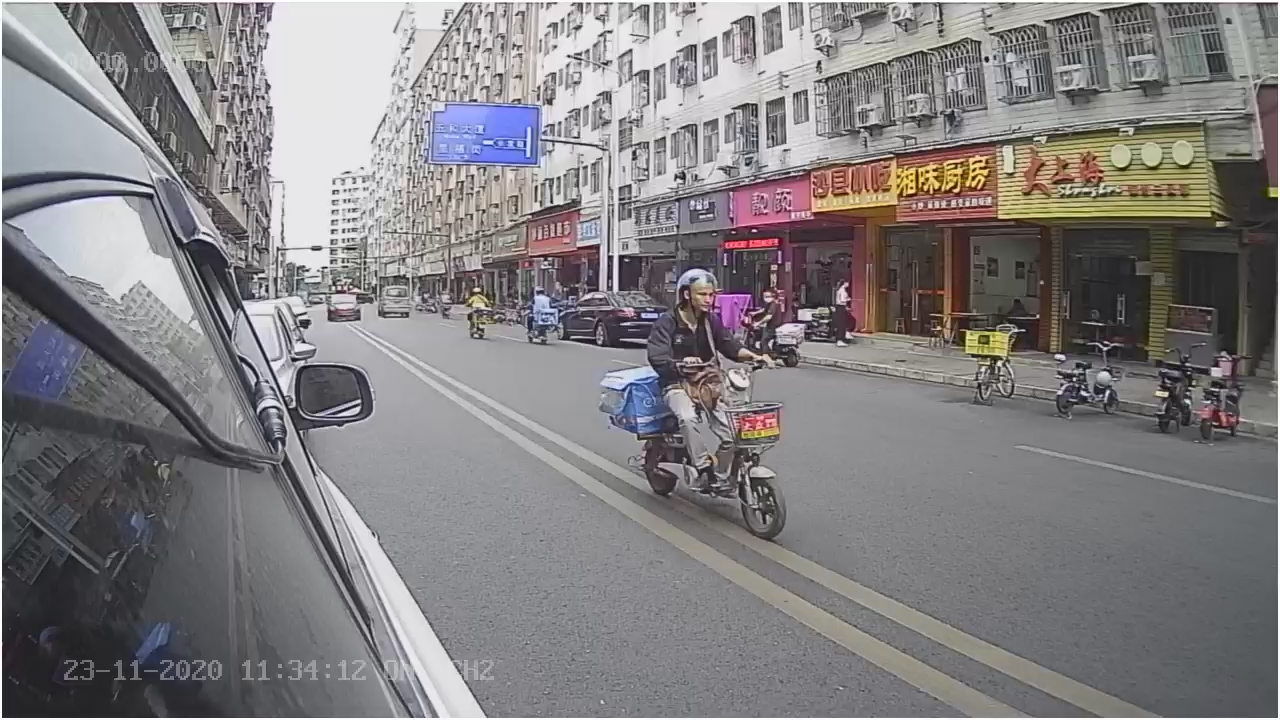person: (645, 257, 750, 367)
